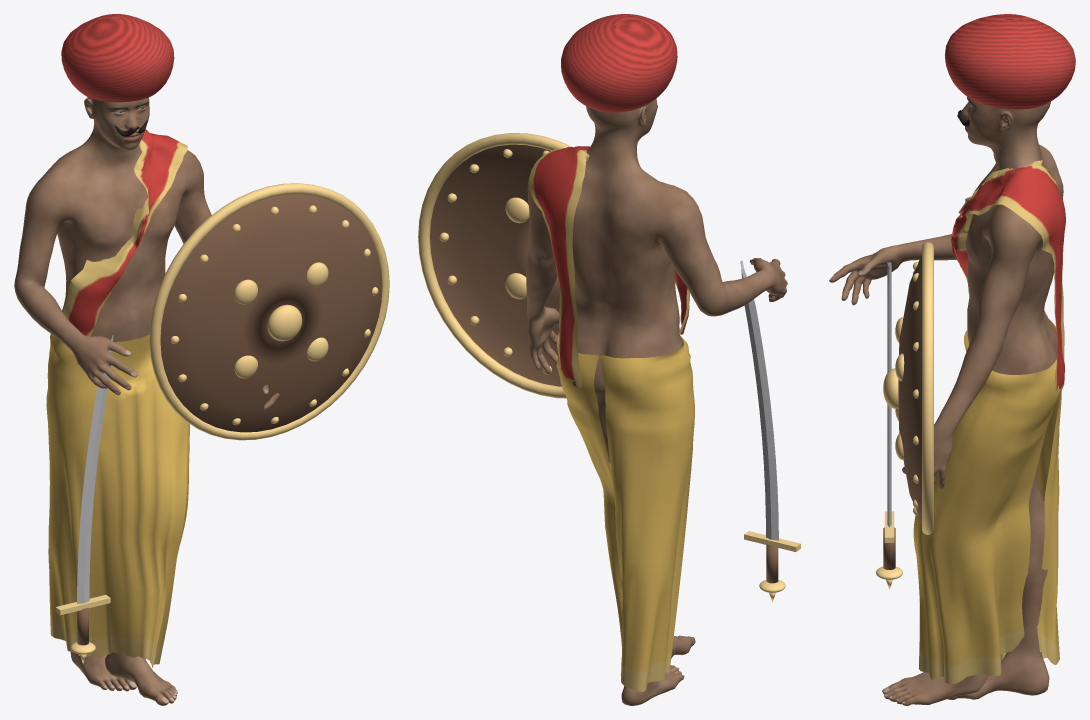
The model's file is ind_sword.glb.
3 views of the same model, side by side, from view 1: azimuth 30°, elevation 25°; view 2: azimuth 150°, elevation 25°; view 3: azimuth 270°, elevation 25° (orthographic). The views are drawn at different scales.
Parts seen in each view (by area): view 1: A_ind_sword; view 2: A_ind_sword; view 3: A_ind_sword.
Part boxes in pixels (x1,y1,x2,y2): A_ind_sword: (14, 14, 389, 705); A_ind_sword: (418, 14, 800, 705); A_ind_sword: (829, 14, 1075, 705).
Size of the model in its own units: 1.05 by 1.86 by 0.6059.
Materials: 17 (8 with a texture image).
